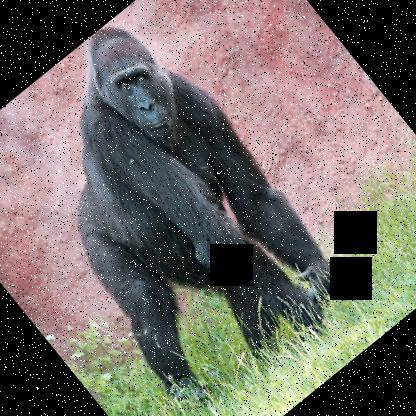Gorilla gorilla: (0, 0, 372, 415)
